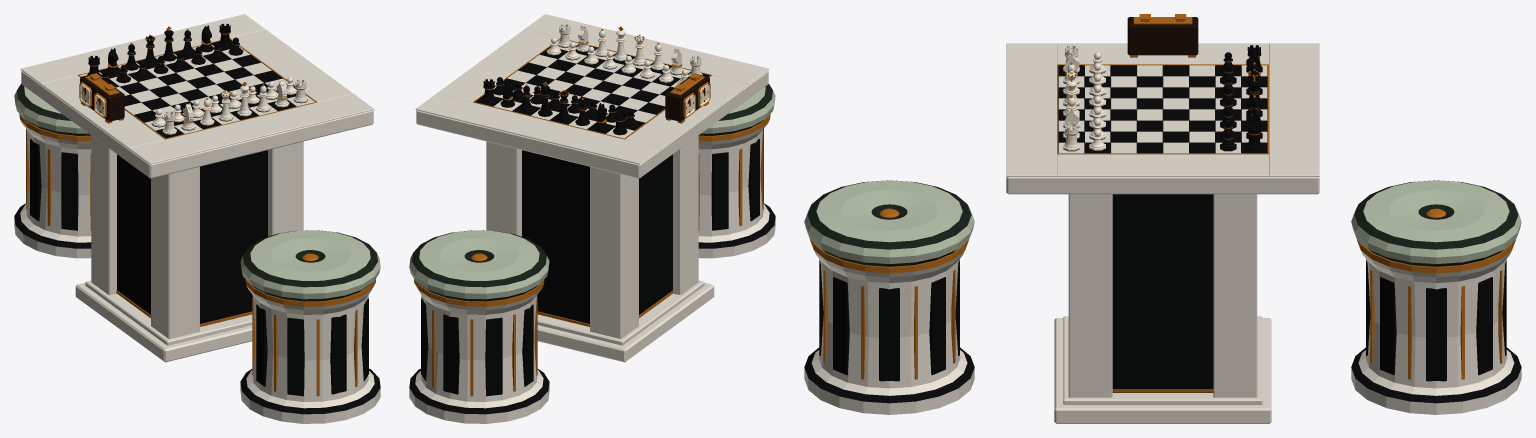
File: cozy_chess_station_set.obj
3 renders of one model, left to right at view 1: azimuth 30°, elevation 25°; view 2: azimuth 150°, elevation 25°; view 3: azimuth 270°, elevation 25°, orthographic. The views are drawn at different scales.
Visible parts, largest first — view 1: Chess_Station_Mesh; view 2: Chess_Station_Mesh; view 3: Chess_Station_Mesh.
Part boxes in pixels (left/top/right/bottom): Chess_Station_Mesh: left=14, top=14, right=380, bottom=423; Chess_Station_Mesh: left=409, top=14, right=775, bottom=423; Chess_Station_Mesh: left=804, top=14, right=1521, bottom=423.
Bounding box in the file's own units: 0.78 × 0.8454 × 1.78.
